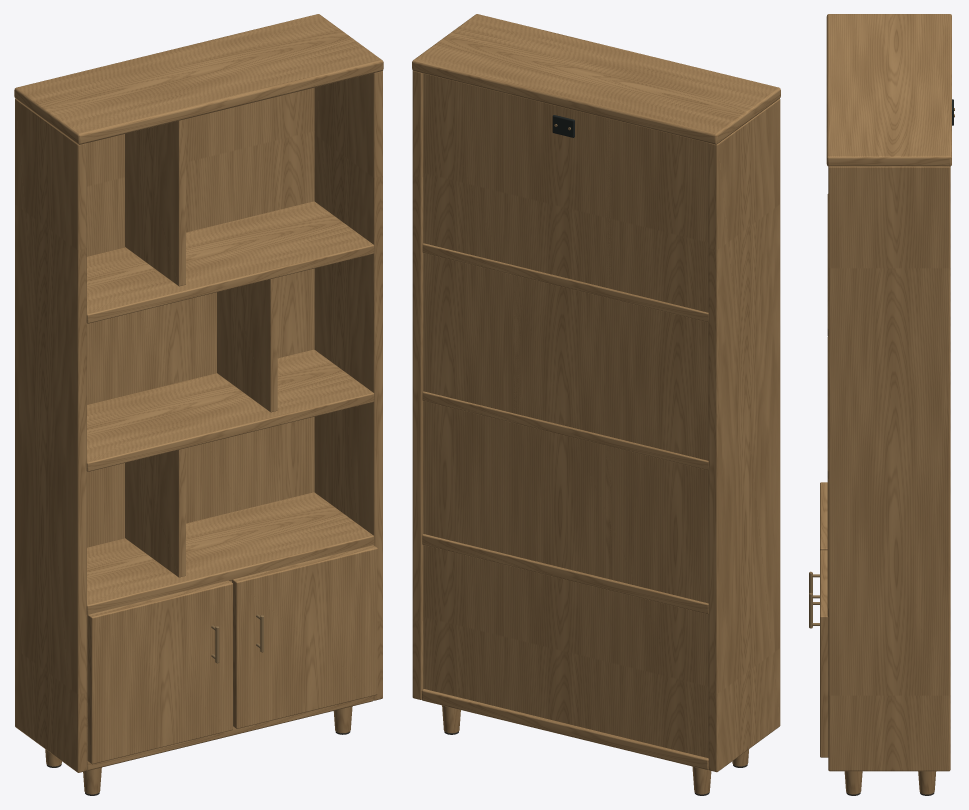
The model's file is bookcase.glb.
3 views of the same model, side by side, from view 1: azimuth 30°, elevation 25°; view 2: azimuth 150°, elevation 25°; view 3: azimuth 270°, elevation 25° (orthographic). The views are drawn at different scales.
Visible parts, largest first — view 1: Case | recessed oak back, Case | tall oak side, Case | tall oak side.001, Case | crown, Lower cupboard | inset door 0, Lower cupboard | inset door 1, Cupboard | roof shelf, Open shelf | thick oak, Open shelf | thick oak.001, Offset vertical divider.002, Offset vertical divider.001, Offset vertical divider (+1 smaller); view 2: Case | recessed oak back, Case | tall oak side, Case | crown, Case | tall oak side.001, Case | bottom, Cupboard | roof shelf, Open shelf | thick oak, Open shelf | thick oak.001, Offset vertical divider; view 3: Case | tall oak side.001, Case | crown, Lower cupboard | inset door 1, Lower cupboard | inset door 0, Solid oak tapered foot.002, Solid oak tapered foot.003, Open shelf | thick oak, Open shelf | thick oak.001.
Part boxes in pixels (x1=…): Case | recessed oak back: x1=87, y1=87, x2=314, y2=702; Case | tall oak side: x1=15, y1=99, x2=86, y2=772; Case | tall oak side.001: x1=314, y1=71, x2=382, y2=700; Case | crown: x1=14, y1=14, x2=383, y2=144; Lower cupboard | inset door 0: x1=87, y1=580, x2=232, y2=764; Lower cupboard | inset door 1: x1=232, y1=545, x2=377, y2=728; Cupboard | roof shelf: x1=86, y1=492, x2=374, y2=615; Open shelf | thick oak: x1=86, y1=349, x2=374, y2=471; Open shelf | thick oak.001: x1=86, y1=201, x2=374, y2=323; Offset vertical divider.002: x1=125, y1=119, x2=185, y2=286; Offset vertical divider.001: x1=217, y1=277, x2=277, y2=412; Offset vertical divider: x1=125, y1=448, x2=185, y2=577; Case | recessed oak back: x1=423, y1=73, x2=708, y2=758; Case | tall oak side: x1=708, y1=98, x2=780, y2=772; Case | crown: x1=412, y1=14, x2=780, y2=144; Case | tall oak side.001: x1=412, y1=71, x2=423, y2=699; Case | bottom: x1=421, y1=689, x2=708, y2=770; Cupboard | roof shelf: x1=422, y1=534, x2=708, y2=614; Open shelf | thick oak: x1=422, y1=391, x2=708, y2=470; Open shelf | thick oak.001: x1=422, y1=243, x2=708, y2=322; Offset vertical divider: x1=606, y1=446, x2=611, y2=579; Case | tall oak side.001: x1=828, y1=166, x2=950, y2=771; Case | crown: x1=826, y1=14, x2=951, y2=166; Lower cupboard | inset door 1: x1=820, y1=550, x2=828, y2=757; Lower cupboard | inset door 0: x1=820, y1=482, x2=827, y2=550; Solid oak tapered foot.002: x1=844, y1=771, x2=862, y2=794; Solid oak tapered foot.003: x1=918, y1=771, x2=936, y2=794; Open shelf | thick oak: x1=827, y1=336, x2=828, y2=478; Open shelf | thick oak.001: x1=827, y1=194, x2=828, y2=335.
Bounding box in the file's own units: 0.9 × 1.9 × 0.3865.
4 materials, 1 textured.
